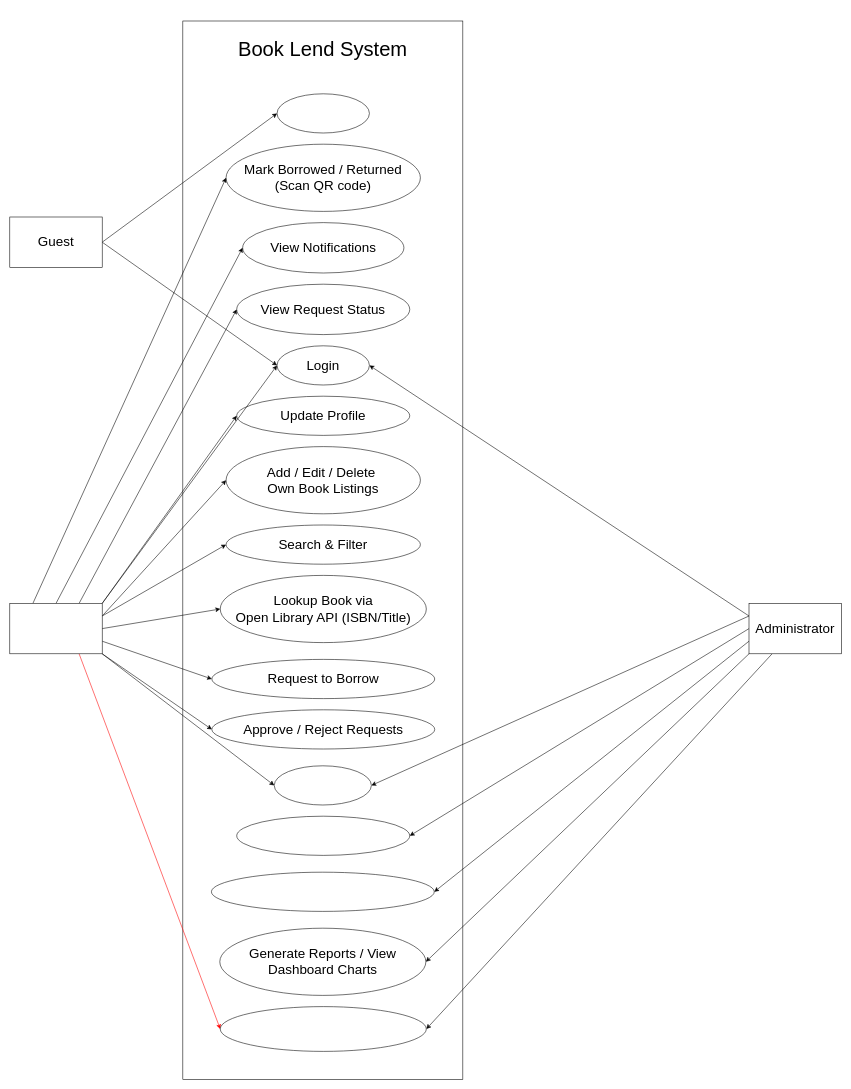
Some shapes in this 851 by 1089 pixel diagram are drawn without their labels. The shapes that lost their labels are listed below. From the top down, each one's centre as x and y in pixels, then its label:
At point 322,113: "Register".
At point 55,628: "User (Student)".
At point 322,785: "Logout".
At point 323,835: "Manage Users".
At point 322,891: "Manage All Book Records".
At point 323,1028: "Toggle Dark Mode".
